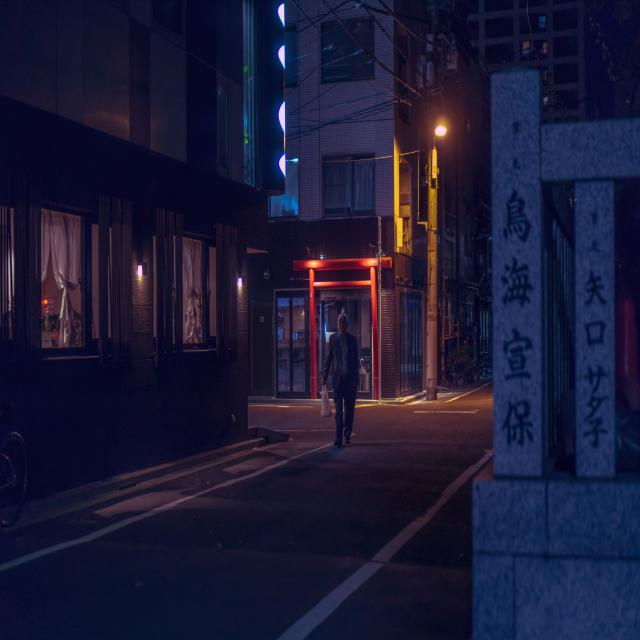Street Light: (424, 123, 448, 402)
